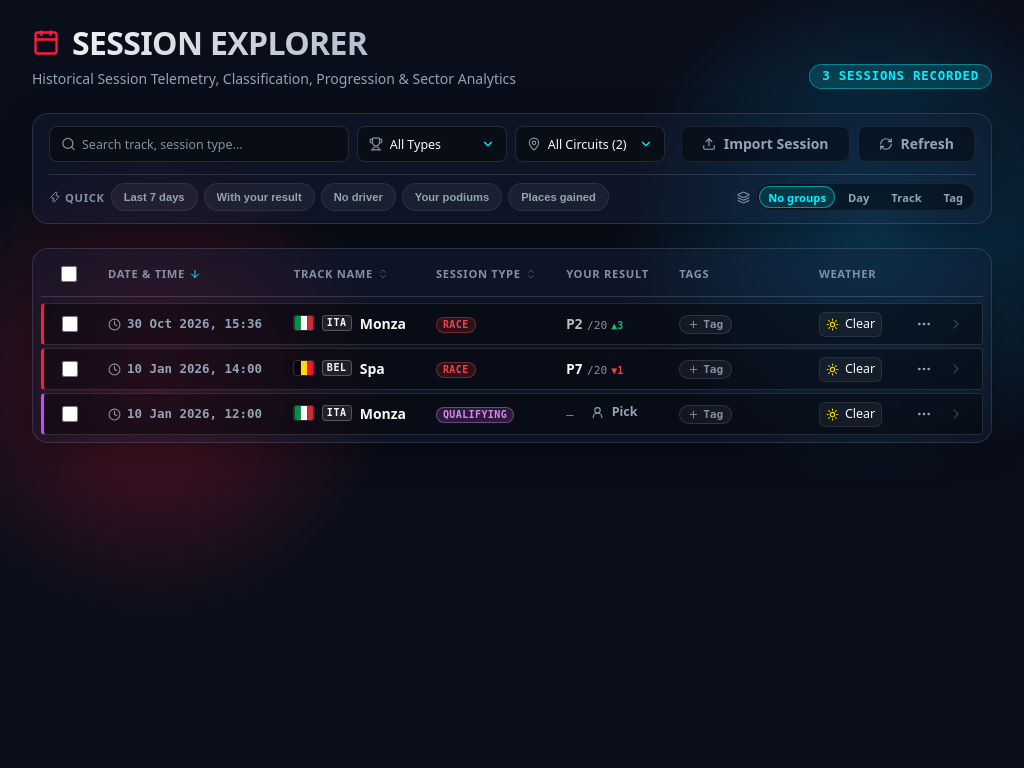
Test: Session list: quick filters, saved filters, groups and pages › groups the list by track, folds a group, and remembers the grouping
Expected: the column heading "ITA Monza" next to "30 Oct 2026, 15:36" is shown, top-left (282, 303), bottom-right (424, 345)
What coordinates should you click on to do the following:
click the radio button labelled "Track"
I would click on:
 (906, 197)
Its box is top-left (882, 186), bottom-right (931, 208).
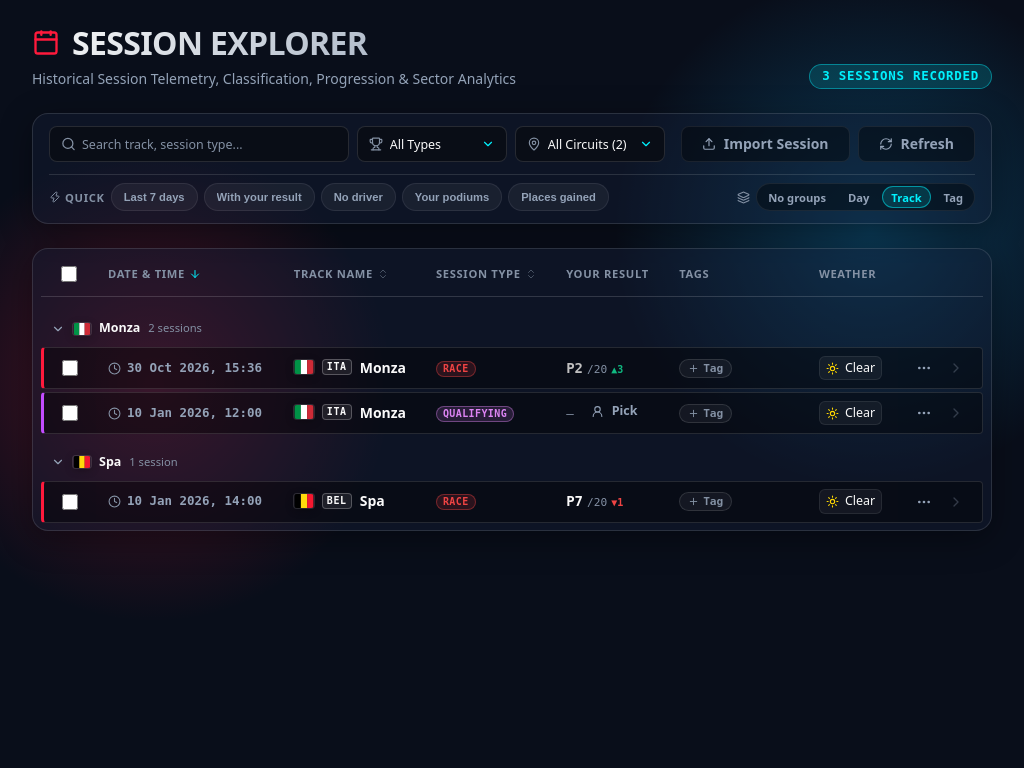
What coordinates should you click on to do the following:
click the button "Monza 2 sessions"
I would click on:
 (126, 329)
Its box is top-left (45, 315), bottom-right (208, 342).
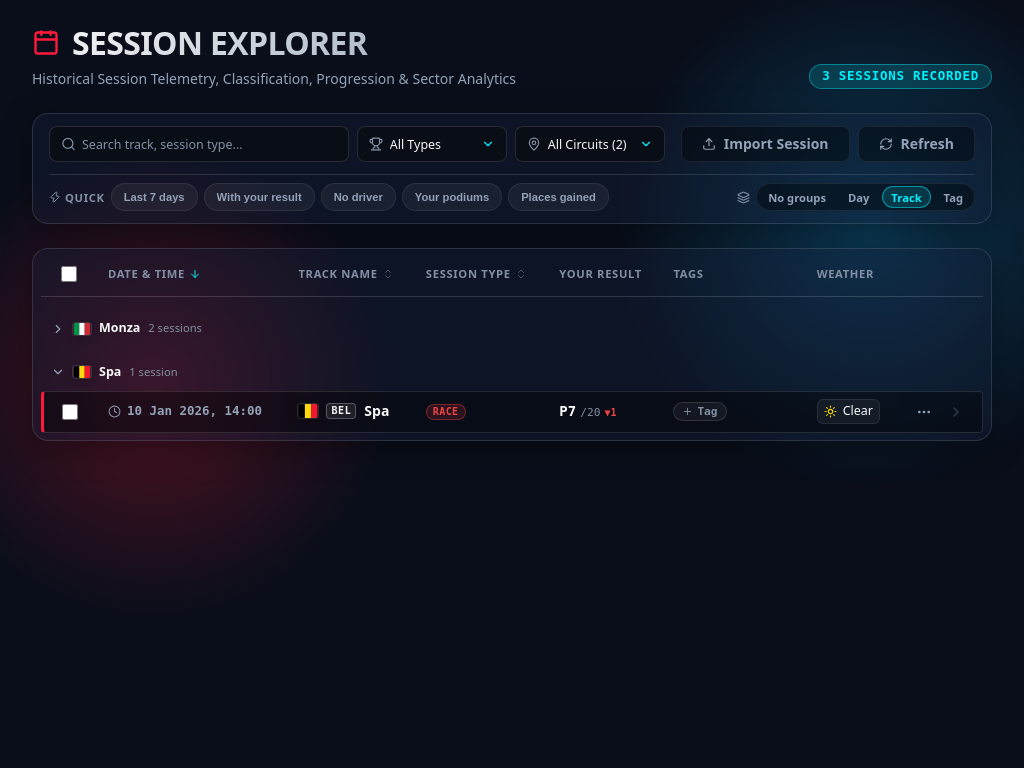
Expected: the button "Monza 2 sessions" is collapsed, top-left (45, 315), bottom-right (208, 342)
